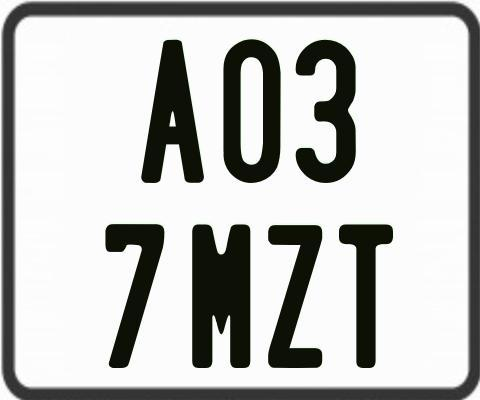0: (221, 39, 281, 187)
3: (296, 37, 359, 182)
7: (105, 222, 167, 366)
A: (138, 38, 206, 183)
M: (190, 223, 251, 373)
T: (338, 222, 394, 366)
Z: (267, 223, 324, 368)
